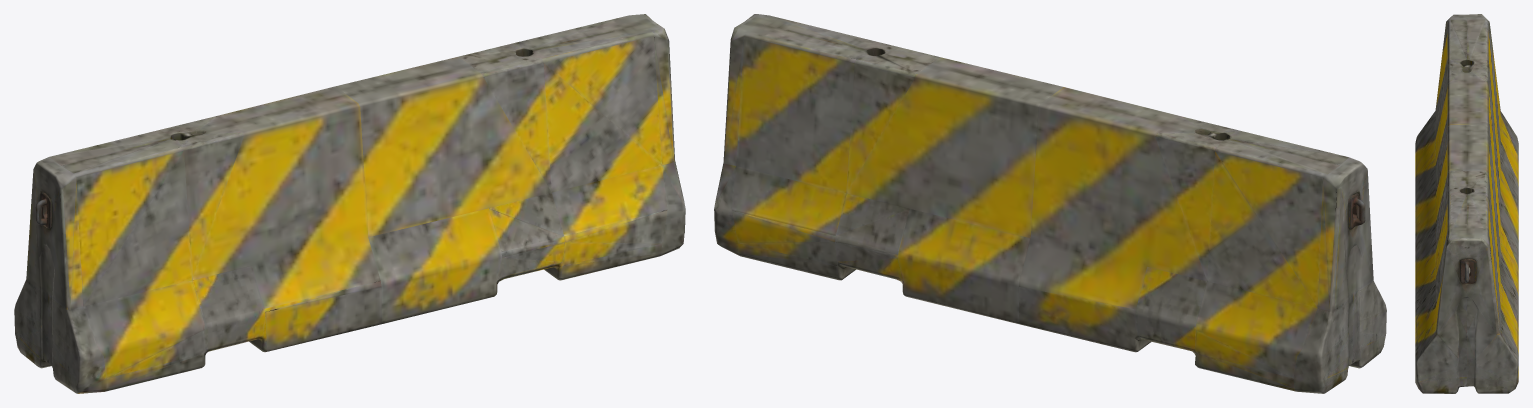
File: barrier.glb
3 renders of one model, left to right at view 1: azimuth 30°, elevation 25°; view 2: azimuth 150°, elevation 25°; view 3: azimuth 270°, elevation 25°, orthographic. The views are drawn at different scales.
Parts seen in each view (by area): view 1: geometry_0; view 2: geometry_0; view 3: geometry_0.
Part boxes in pixels (x1,y1,x2,y2): geometry_0: [14, 14, 685, 393]; geometry_0: [714, 14, 1386, 393]; geometry_0: [1415, 14, 1518, 393].
Size of the model in its own units: 0.9497 by 0.2964 by 0.1773.
Materials: 1 (1 with a texture image).
